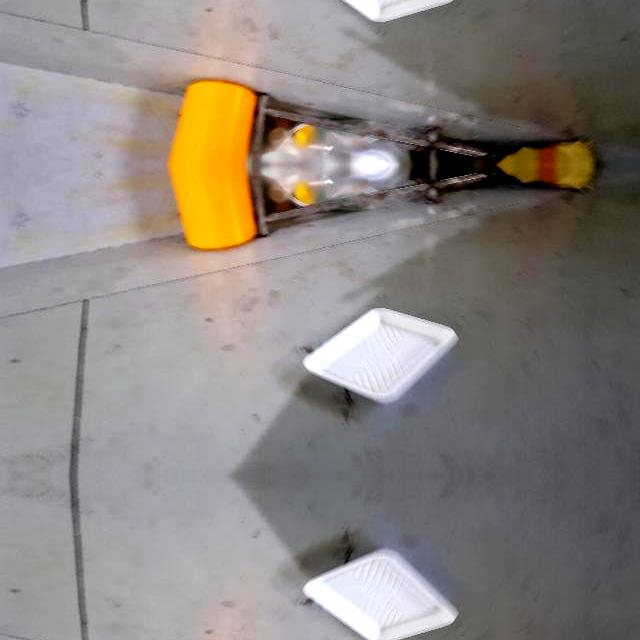Styrofoam: (302, 306, 460, 404), (303, 307, 459, 403), (302, 546, 460, 640), (303, 547, 459, 640), (302, 0, 460, 21)
